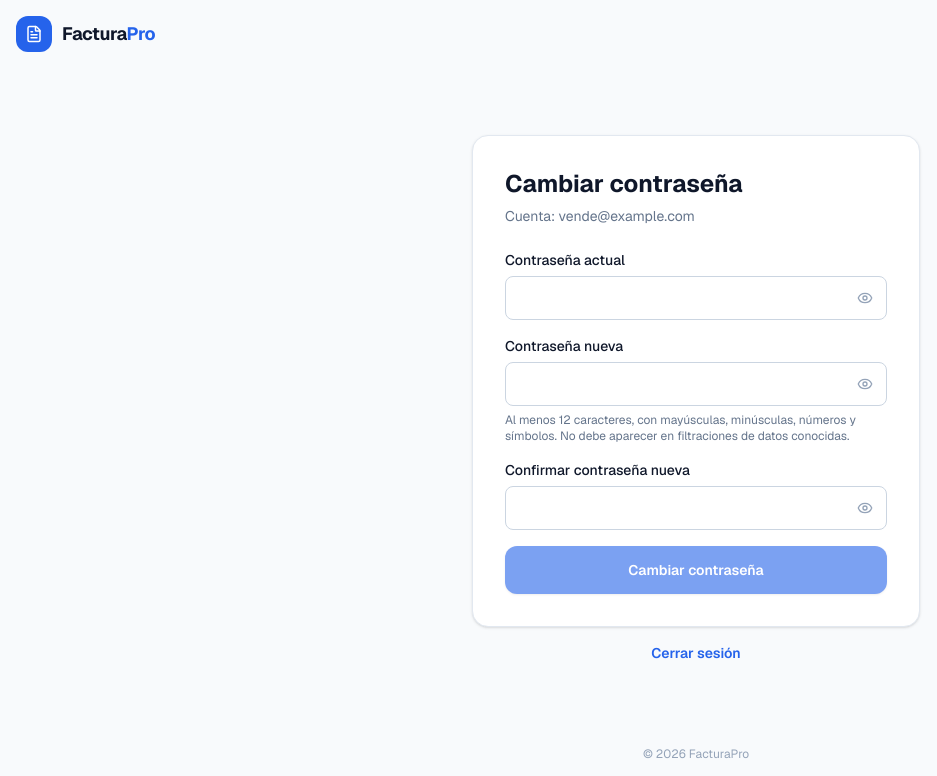
it: /cambiar-contrasena (Fase 6.32) › el límite de intentos se explica en español
Type "Actual-2026" into the password field labelled "Contraseña actual".
click(696, 298); type("Actual-2026")  # box [505, 276, 887, 320]
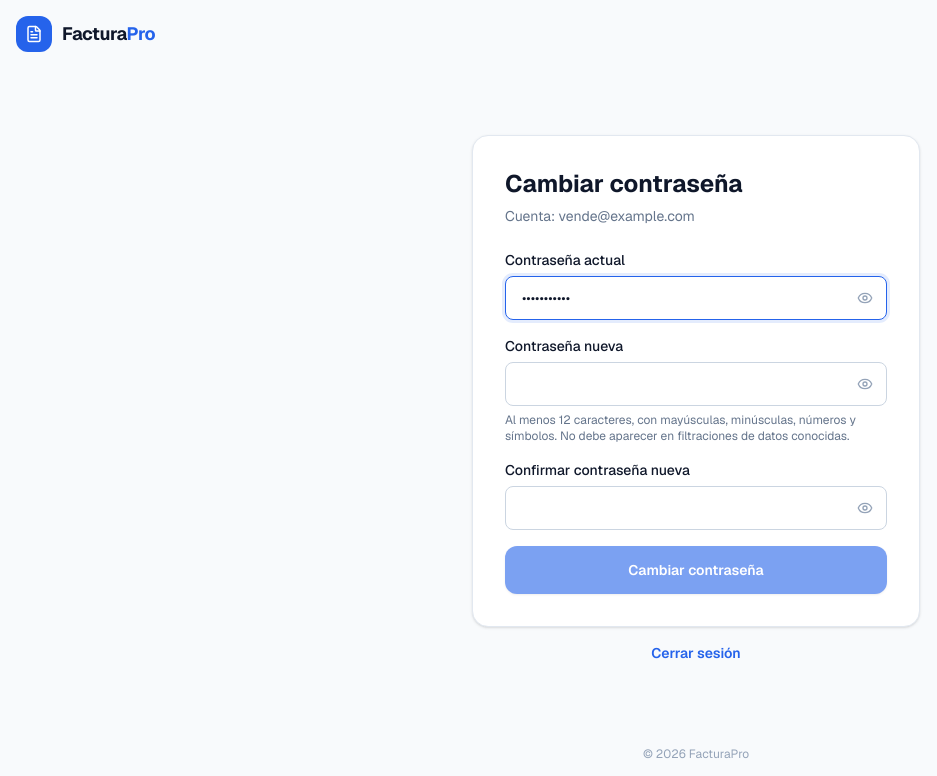
Type "Nueva-Segura-2026!" into the password field labelled "Contraseña nueva".
click(696, 384); type("Nueva-Segura-2026!")  # box [505, 362, 887, 406]
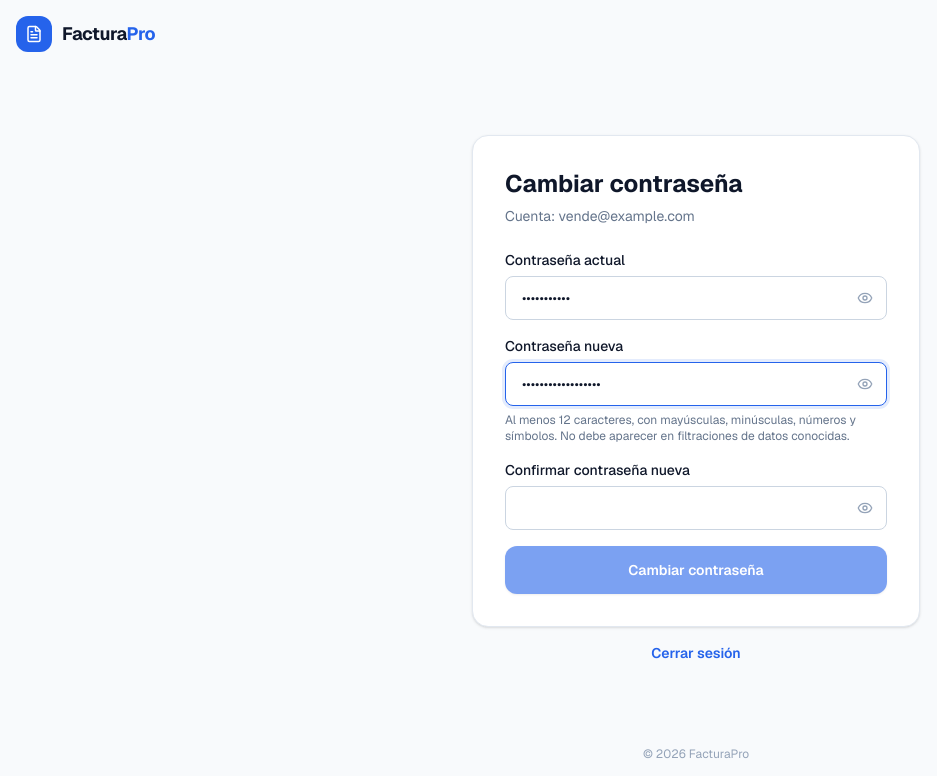
Type "Nueva-Segura-2026!" into the password field labelled "Confirmar contraseña nueva".
click(696, 508); type("Nueva-Segura-2026!")  # box [505, 486, 887, 530]
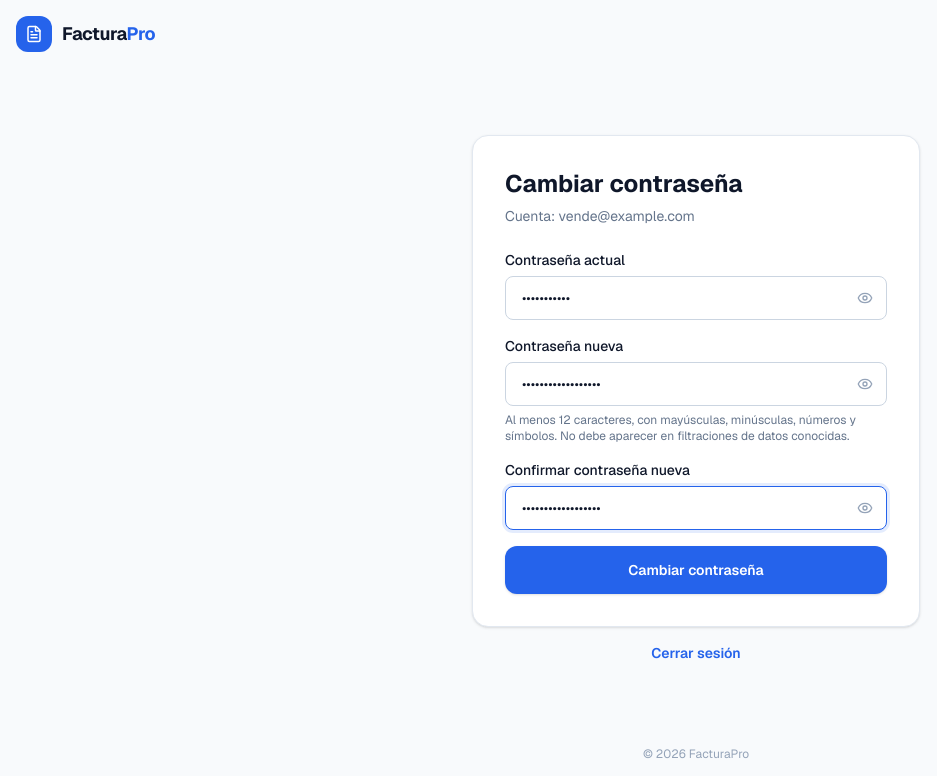
Click the button "Cambiar contraseña".
click(696, 570)  # box [505, 546, 887, 594]
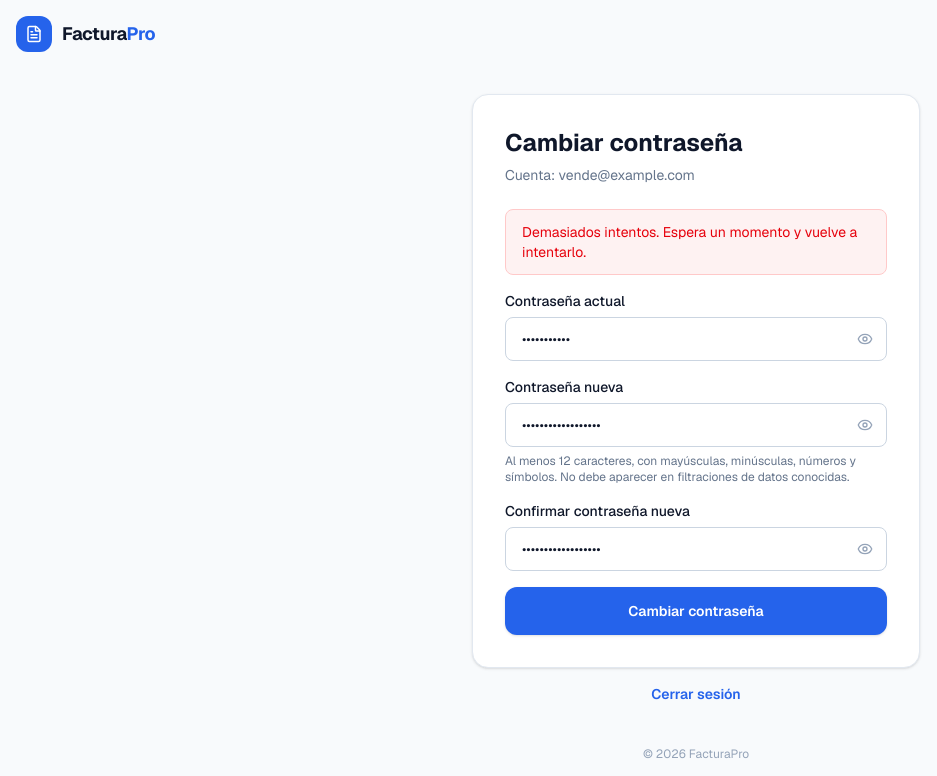
Expected: the message shows "Demasiados intentos", [522, 223, 857, 261]
